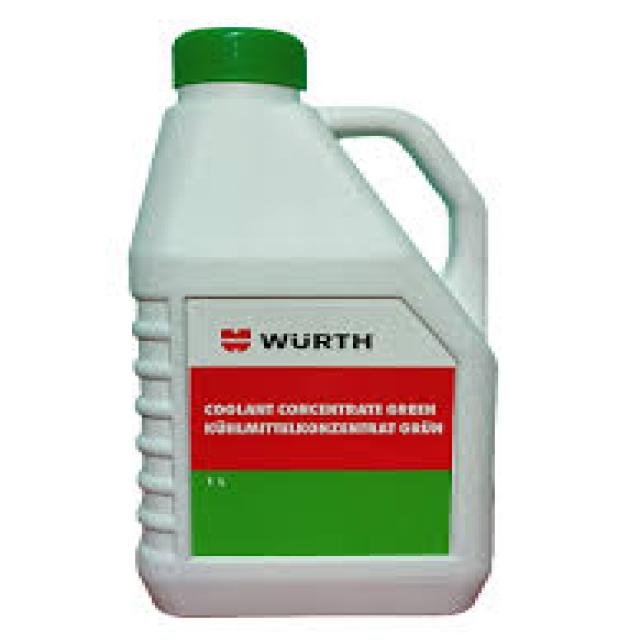coolant: (116, 21, 507, 623)
